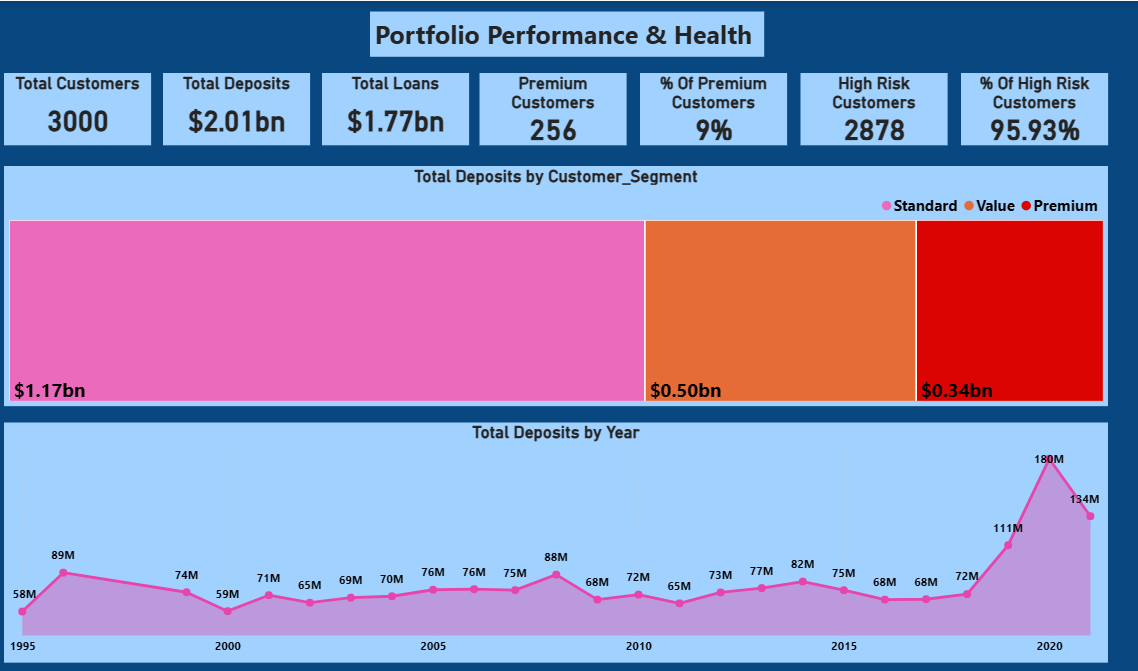

The dashboard page shown, as its layout file describes it:
{"tool":"powerbi","page":{"name":"Executive Summary","canvas":[1280,720],"ordinal":0},"visuals":[{"type":"textbox","box":[400.8,11.1,418.3,47.7],"z":0},{"type":"card","title":"Total Customers","fields":{"Values":["Banking1.Total Customers"]},"box":[12.7,76.3,155.9,76.3],"z":1000},{"type":"card","title":"Total Deposits","fields":{"Values":["Banking1.Total Deposits"]},"box":[181.3,76.3,155.9,76.3],"z":2000},{"type":"card","title":"Total Loans","fields":{"Values":["Banking1.Total Loans"]},"box":[349.9,76.3,155.9,76.3],"z":3000},{"type":"card","title":"Premium Customers  ","fields":{"Values":["Banking1.Customers Premium Segment"]},"box":[516.9,76.3,155.9,76.3],"z":4000},{"type":"card","title":"% Of Premium Customers","fields":{"Values":["Banking1.% Premium Customers"]},"box":[687.1,76.3,155.9,76.3],"z":5000},{"type":"card","title":"% Of High Risk Customers","fields":{"Values":["Banking1.% High Risk Customers"]},"box":[1027.5,76.3,155.9,76.3],"z":6000},{"type":"treemap","fields":{"Values":["Banking1.Total Deposits"],"Group":["Banking1.Customer_Segment"]},"box":[12.7,175,1170.7,254.5],"z":7000},{"type":"lineChart","fields":{"Category":["Banking1.Joined Bank.Variation.Date Hierarchy.Year"],"Y":["Banking1.Total Deposits"]},"box":[12.7,447,1170.7,254.5],"z":8000},{"type":"card","title":"High Risk Customers  ","fields":{"Values":["Banking1.Customers High Risk DTI"]},"box":[857.3,76.3,155.9,76.3],"z":9000}]}

Visuals, with their boxes on the page's 1280x720 design canvas (x1, y1, x2, y2). These are canvas units, not pixel positions in the 1138x671 screenshot, which may show the page scaled, cropped or inside an application window:
textbox: region(401, 11, 819, 59)
"Total Customers" card: region(13, 76, 169, 153)
"Total Deposits" card: region(181, 76, 337, 153)
"Total Loans" card: region(350, 76, 506, 153)
"Premium Customers  " card: region(517, 76, 673, 153)
"% Of Premium Customers" card: region(687, 76, 843, 153)
"% Of High Risk Customers" card: region(1028, 76, 1183, 153)
treemap - Banking1.Total Deposits x Banking1.Customer_Segment: region(13, 175, 1183, 430)
lineChart - Banking1.Joined Bank.Variation.Date Hierarchy.Year x Banking1.Total Deposits: region(13, 447, 1183, 702)
"High Risk Customers  " card: region(857, 76, 1013, 153)
